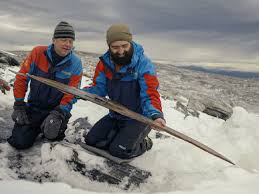skis: (9, 68, 237, 166)
